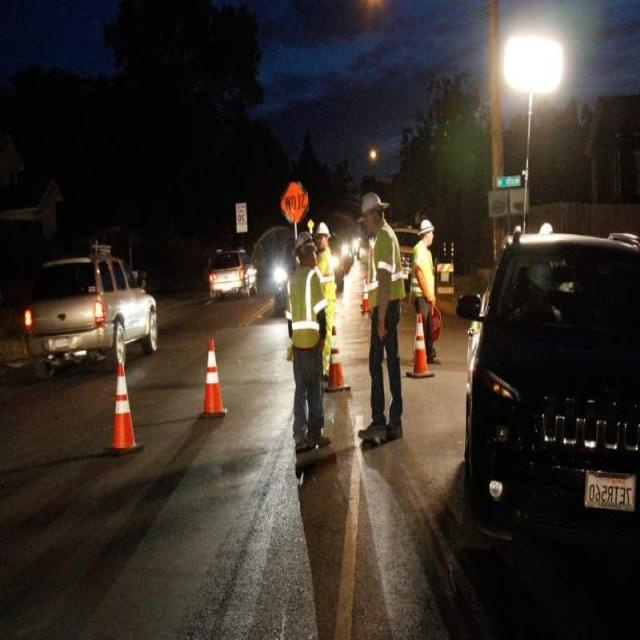Con_Casco: (357, 193, 389, 231)
Con_Chaleco: (284, 269, 322, 347), (366, 231, 403, 309)
